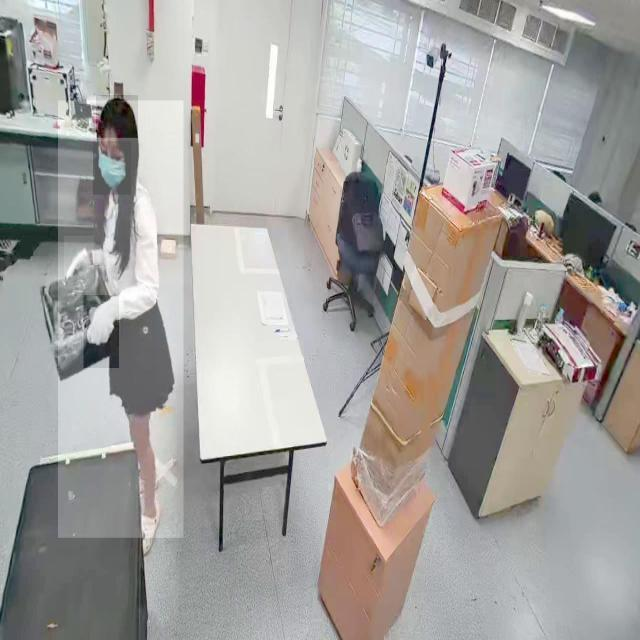face_mask: (93, 141, 131, 195)
hand_glove: (84, 295, 120, 369), (64, 235, 94, 289)
head_nohelmet: (96, 95, 138, 139)
person: (58, 100, 184, 538)
